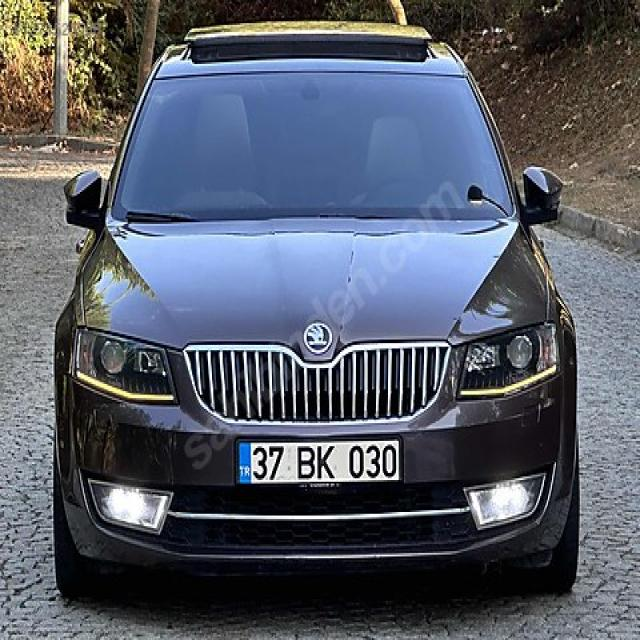skoda: (303, 319, 333, 352)
